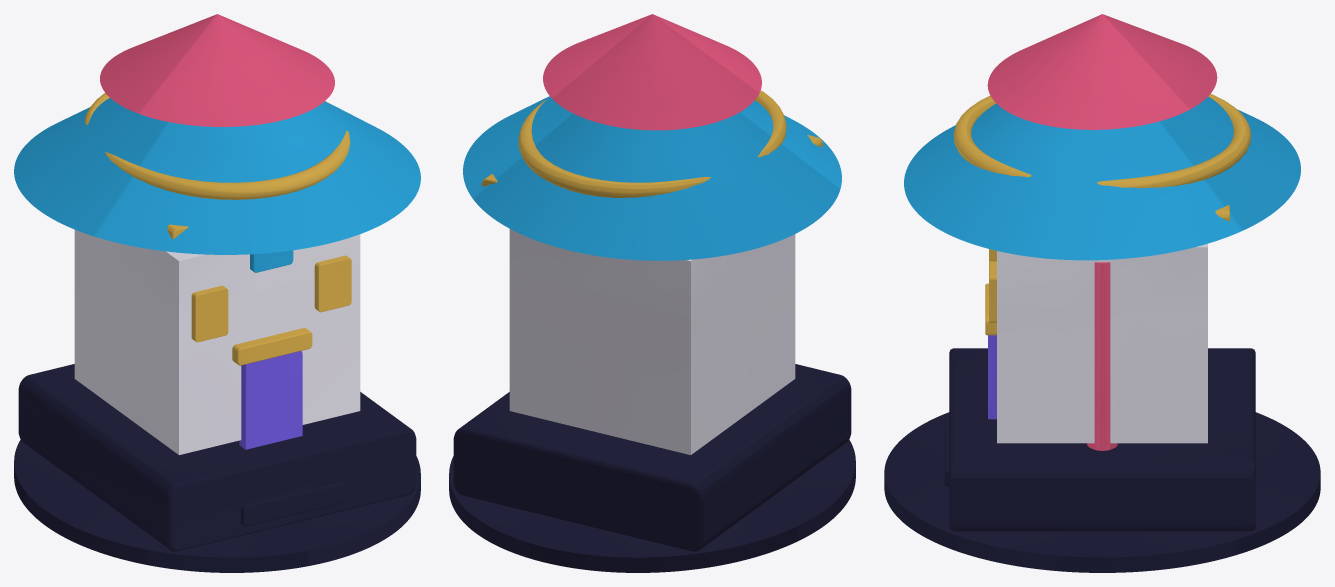
Rendered from 0795_中国建筑图鉴_干栏式木楼.glb.
3 views of the same model, side by side, from view 1: azimuth 30°, elevation 25°; view 2: azimuth 150°, elevation 25°; view 3: azimuth 270°, elevation 25° (orthographic).
Parts seen in each view (by area): view 1: card_0795; view 2: card_0795; view 3: card_0795.
Boxes of the visible parts, bbox=[...] form: card_0795: bbox=[14, 14, 420, 572]; card_0795: bbox=[449, 14, 855, 572]; card_0795: bbox=[884, 14, 1320, 572].
Size of the model in its own units: 0.7683 by 1 by 0.834.
